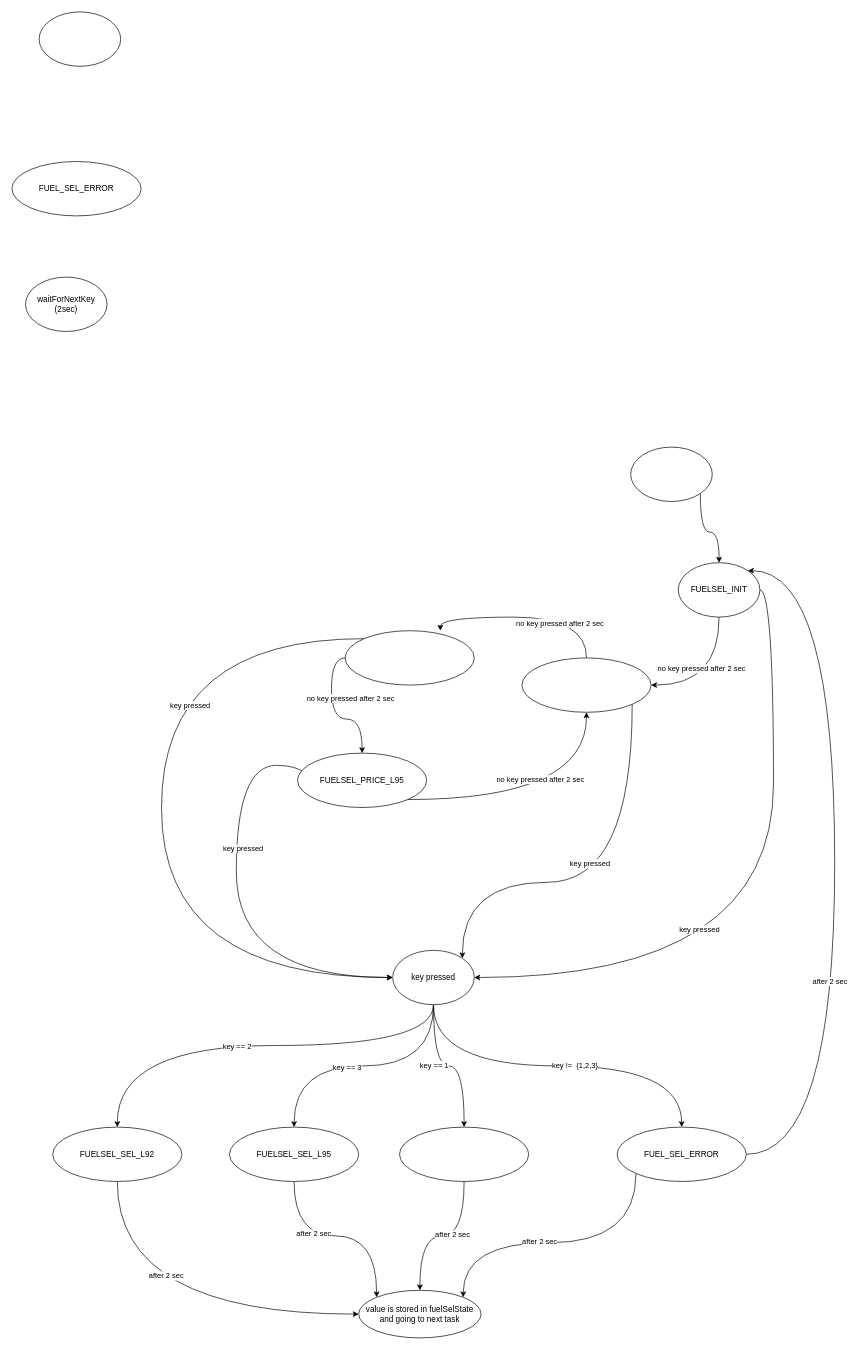
The diagram is 859 pixels wide and 1350 high, and some of its shapes have lost their labels. The shapes that lost their labels are listed below. From the top down, each one's box as (x1, y1, x2, y2) in pixels, then its label:
(630, 446, 712, 502): start
(344, 630, 474, 685): FUELSEL_PRICE_L92
(521, 657, 651, 712): FUELSEL_PRICE_DIESEL
(399, 1126, 529, 1182): FUELSEL_SEL_DIESEL
